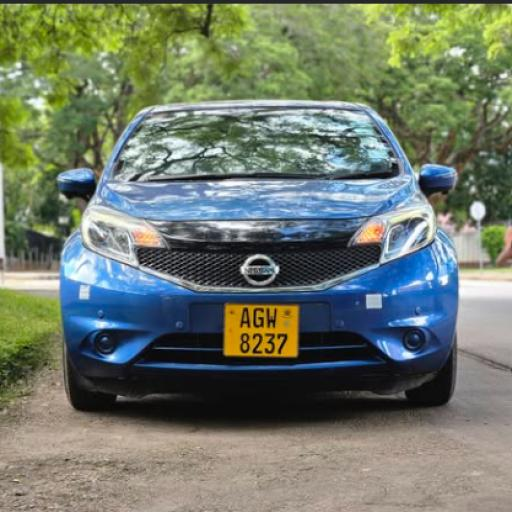number-plates: (226, 304, 298, 356)
